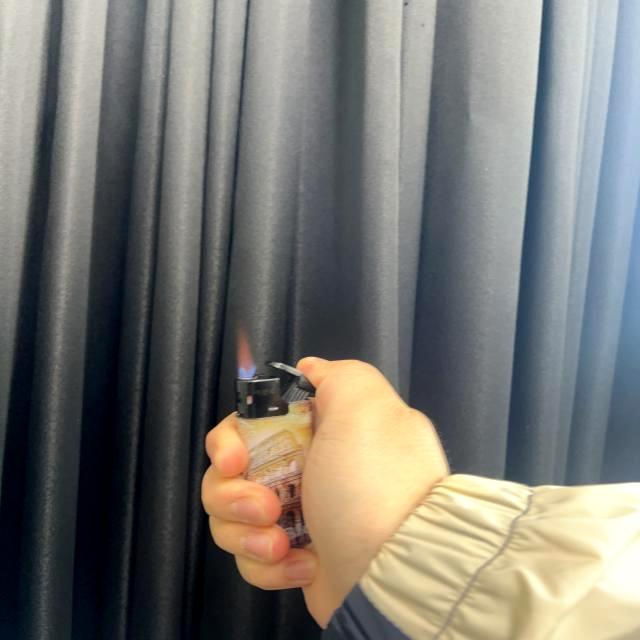fire: (232, 326, 258, 378)
